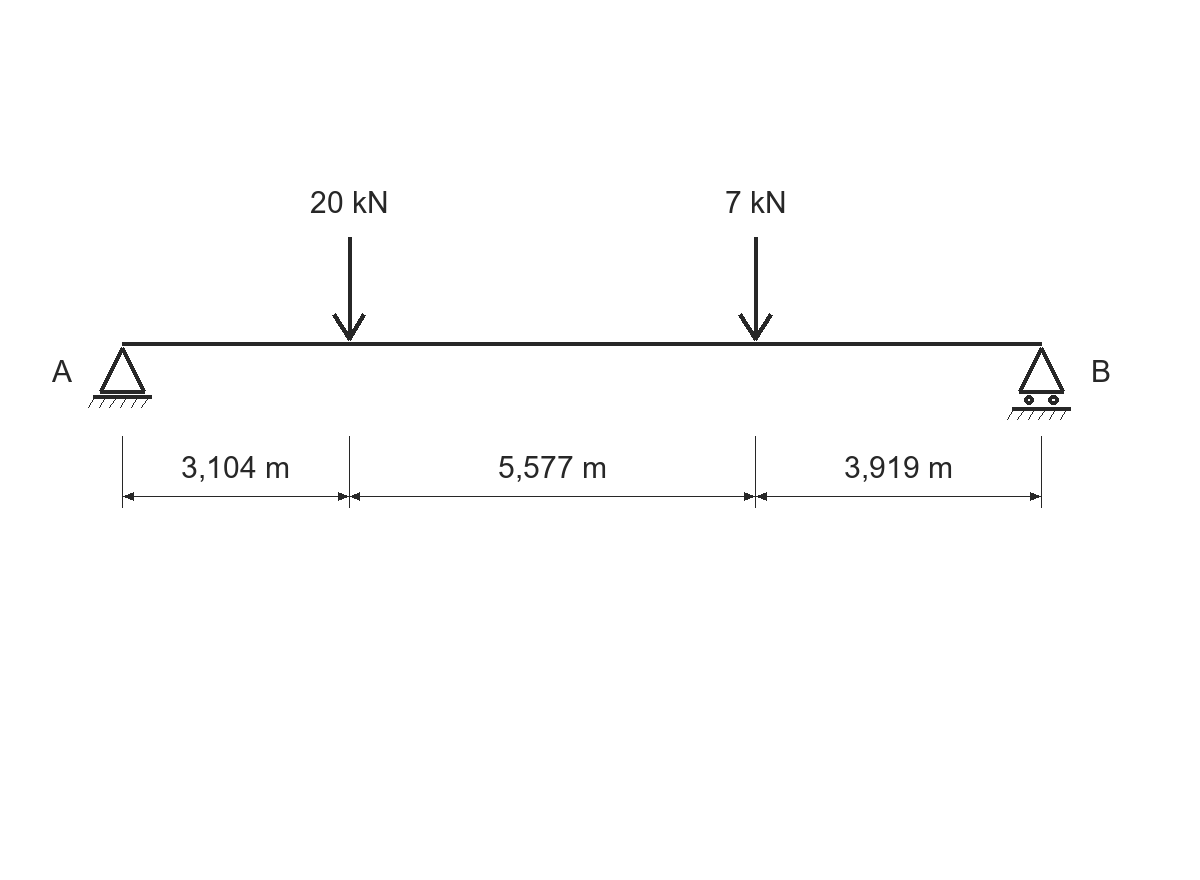pin_support: (88, 347, 152, 408)
point_load: (738, 237, 773, 341), (332, 237, 366, 341)
roller_support: (1007, 347, 1071, 420)
